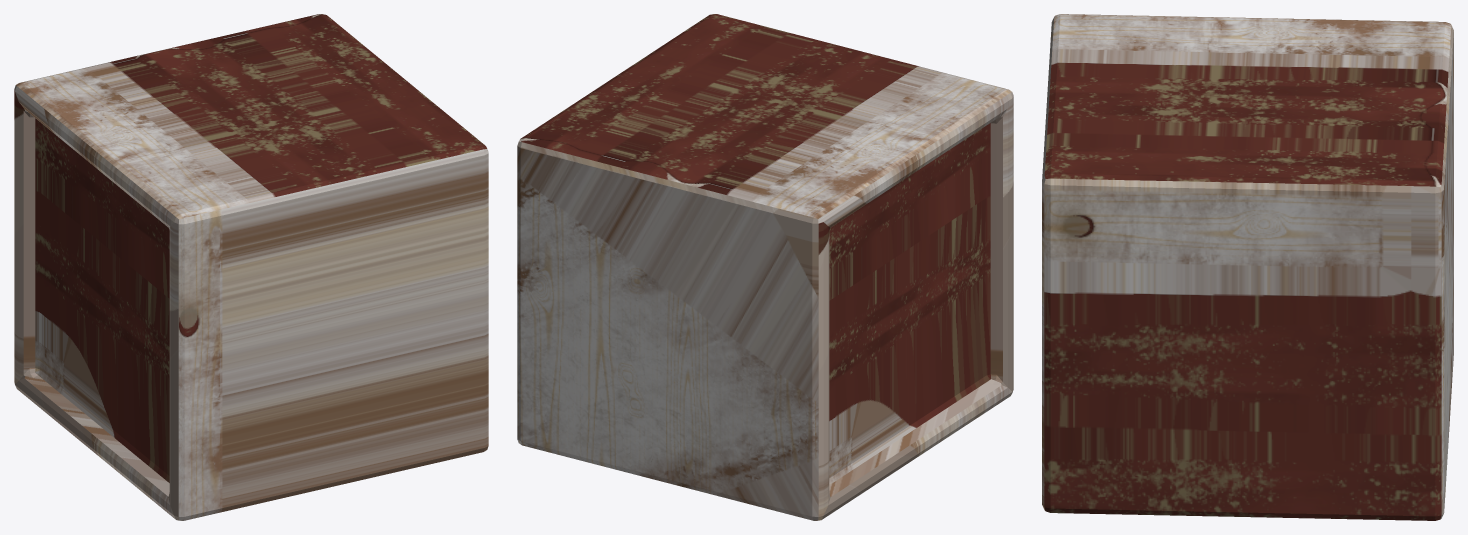
The picture shows the model from 3 angles, left to right: view 1: azimuth 30°, elevation 25°; view 2: azimuth 150°, elevation 25°; view 3: azimuth 270°, elevation 25°; orthographic projection. The views are drawn at different scales.
Parts seen in each view (by area): view 1: télés.004; view 2: télés.004; view 3: télés.004.
Boxes of the visible parts, box(x1,y1,x2,y2) form: télés.004: box(14, 14, 488, 520); télés.004: box(517, 14, 1013, 520); télés.004: box(1042, 14, 1453, 520).
Size of the model in its own units: 66.86 by 60.5 by 66.63.
